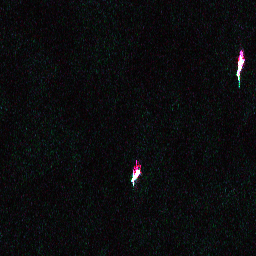ship: (234, 56, 246, 78), (129, 168, 142, 183)
